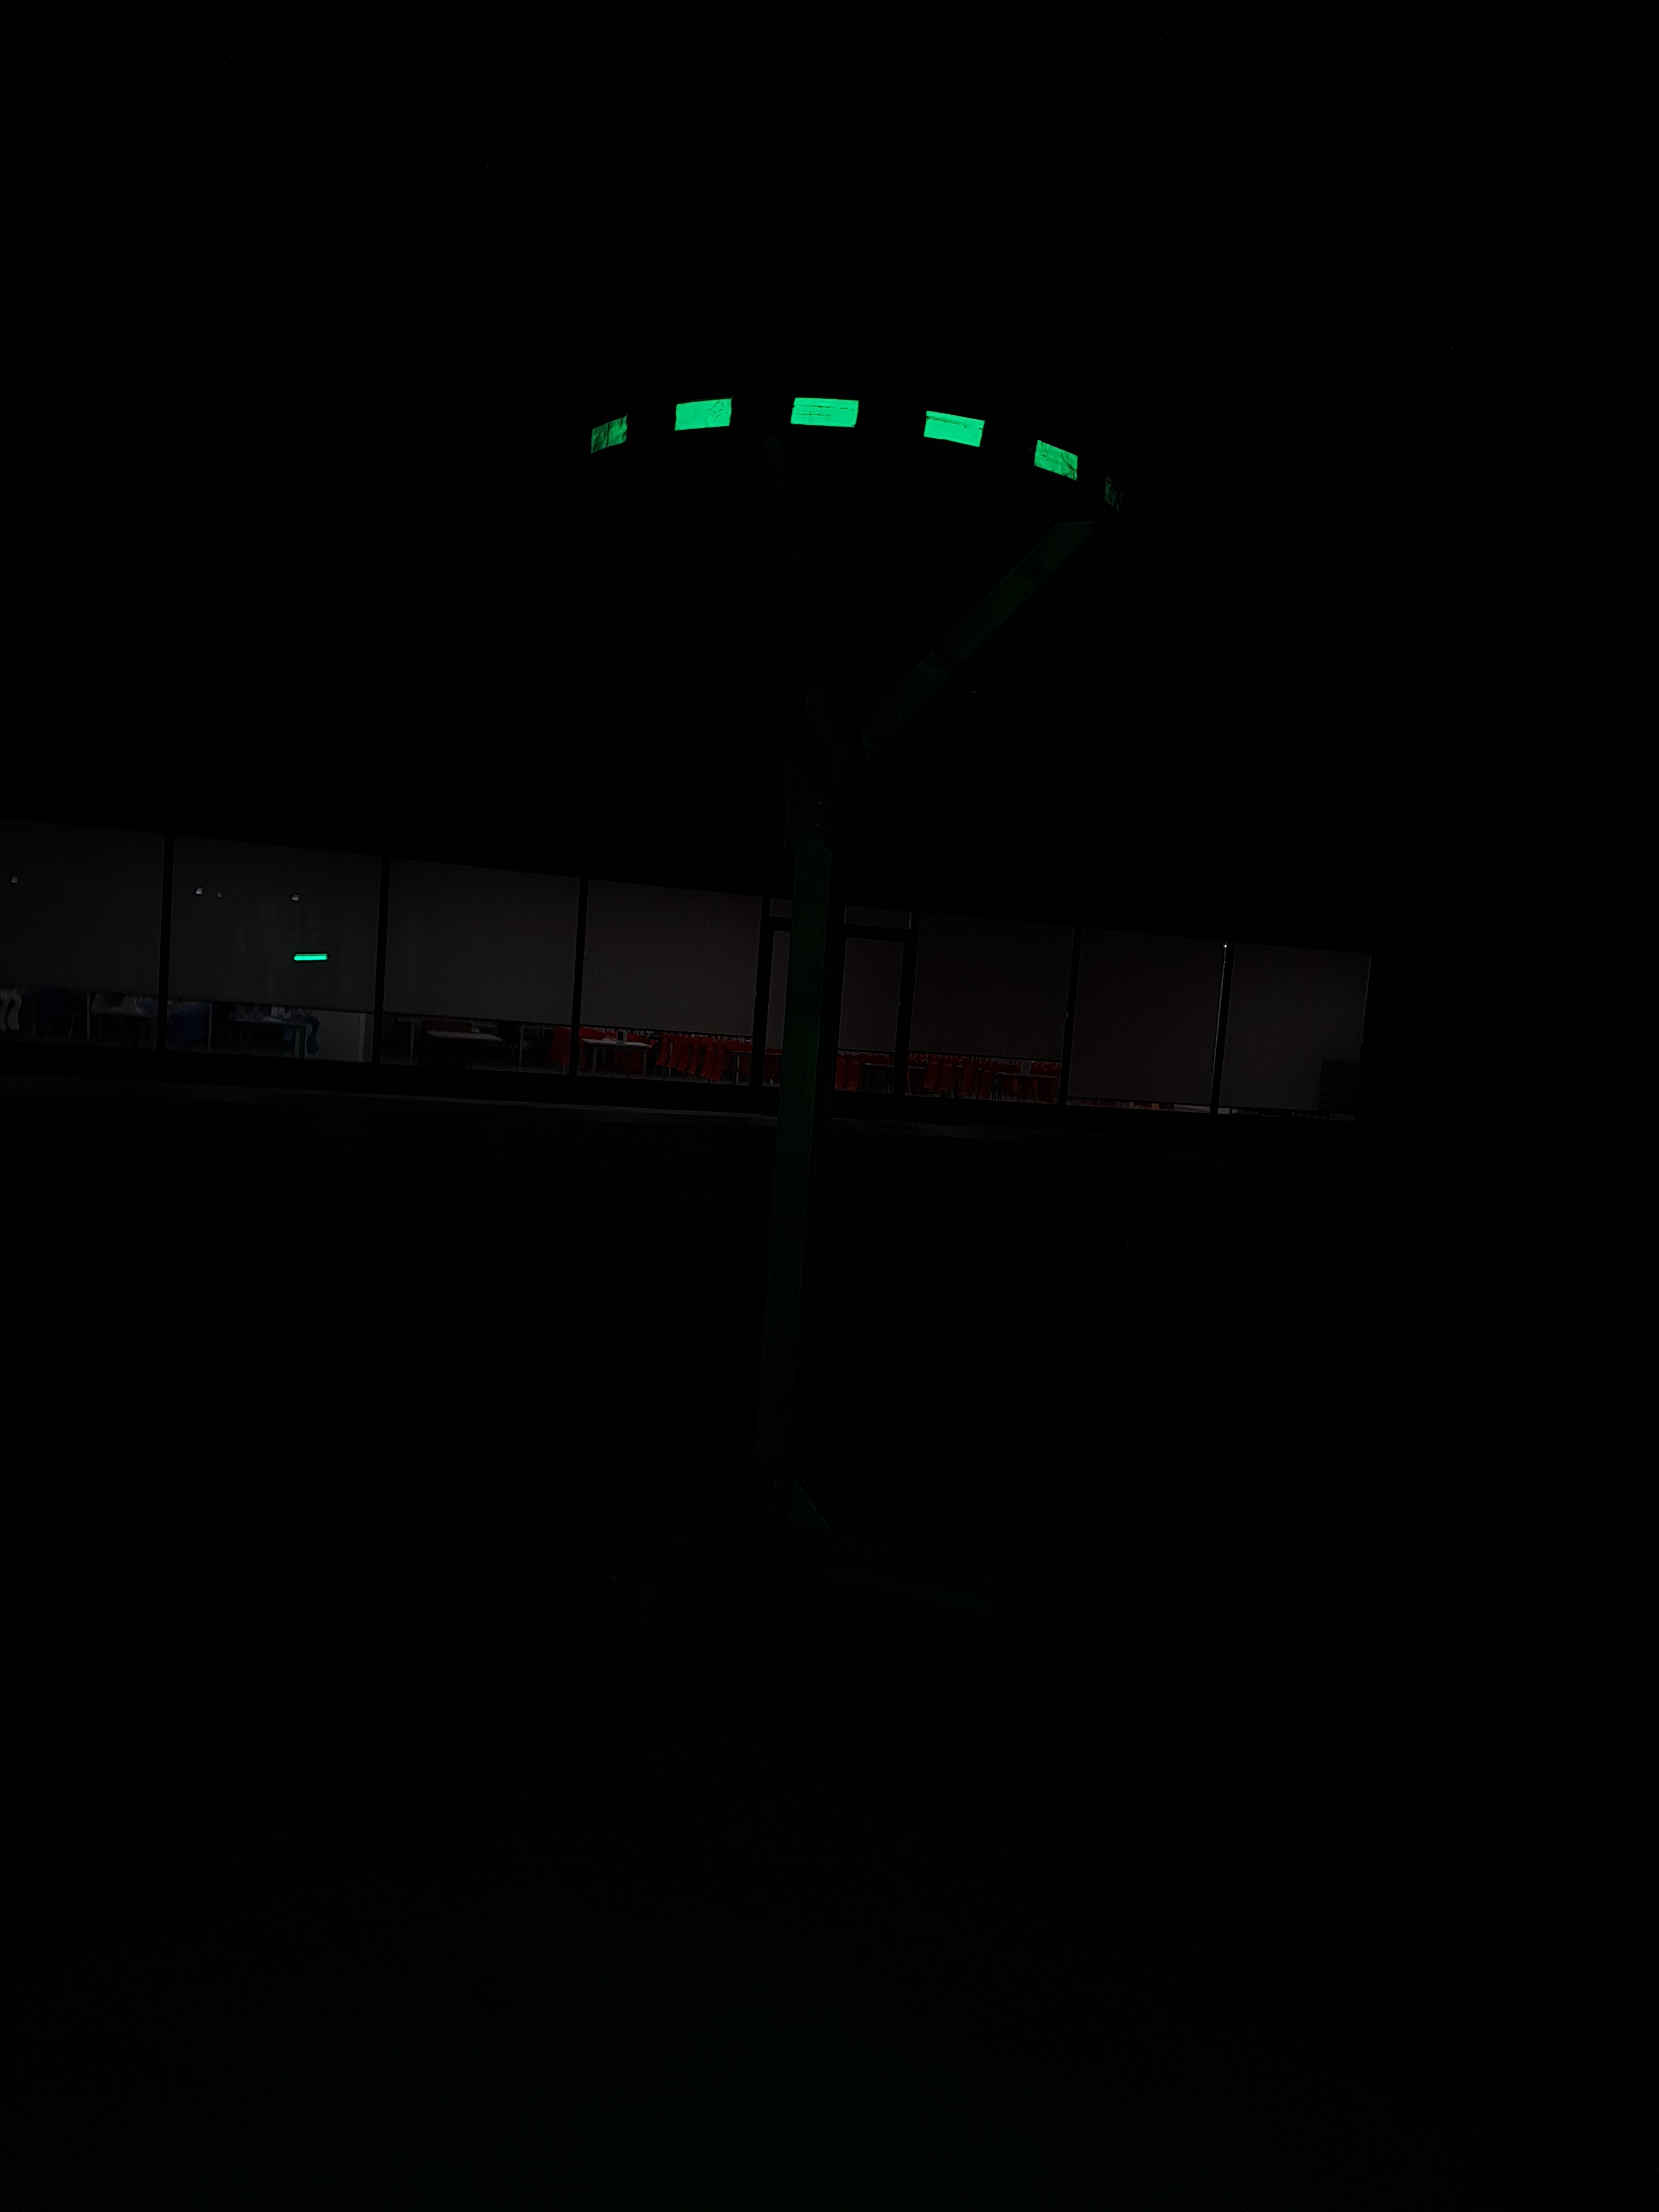hoop: (573, 362, 1086, 498)
